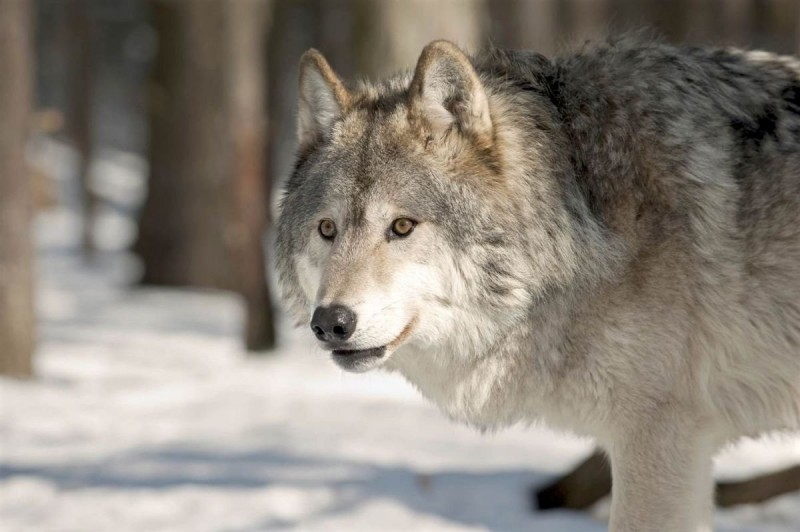Lobo: (263, 31, 782, 520)
